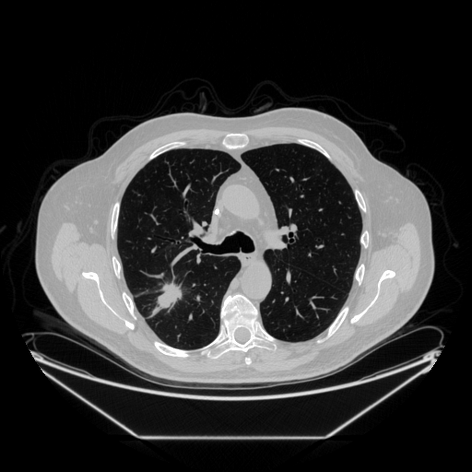nodule: (157, 281, 183, 307)
